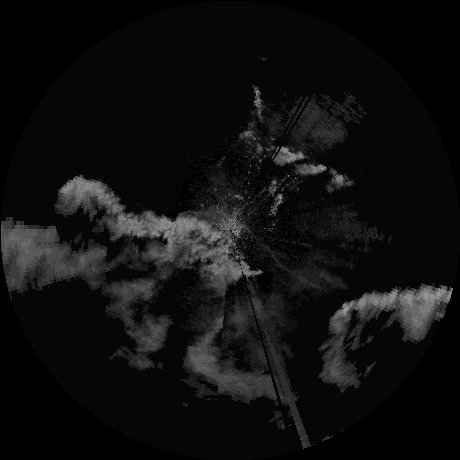frontgust: (237, 222, 287, 271)
